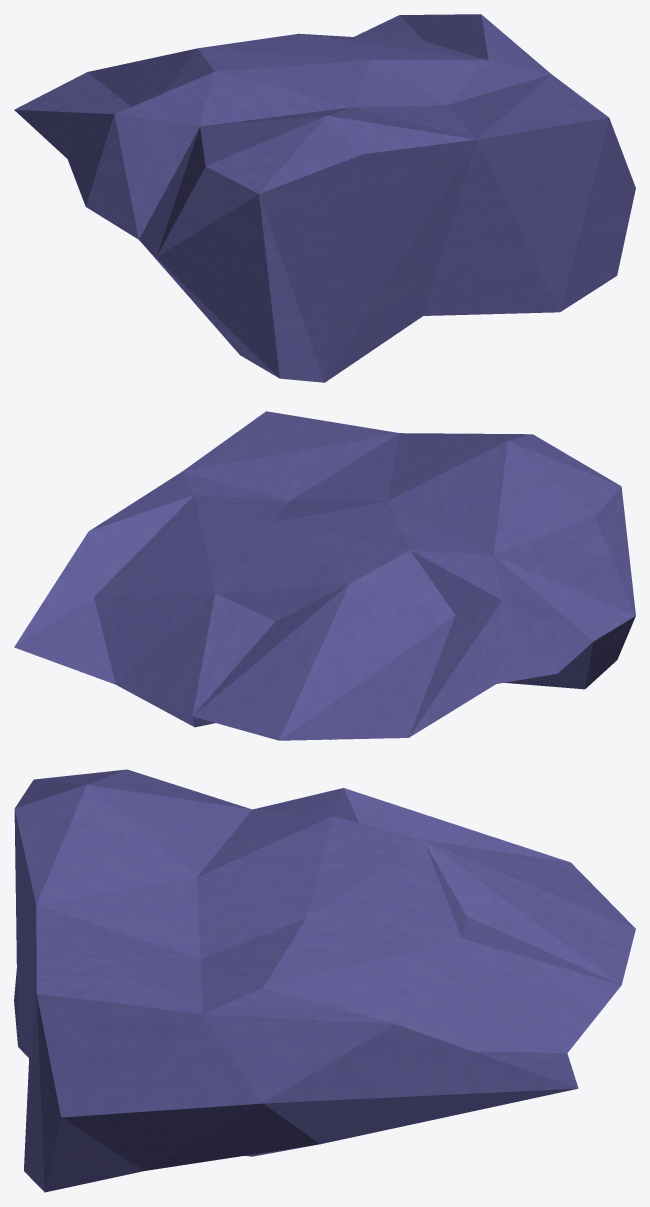
File: Elder_IceWall3.fbx
The picture shows the model from 3 angles, top to bottom: view 1: azimuth 30°, elevation 25°; view 2: azimuth 150°, elevation 25°; view 3: azimuth 270°, elevation 25°; orthographic projection. The views are drawn at different scales.
Parts seen in each view (by area): view 1: Elder_IceWall3; view 2: Elder_IceWall3; view 3: Elder_IceWall3.
Part boxes in pixels (x1,y1,x2,y2): Elder_IceWall3: [14, 14, 635, 382]; Elder_IceWall3: [14, 411, 635, 740]; Elder_IceWall3: [14, 769, 635, 1192].
Bounding box in the file's own units: 336 × 166 × 335.
Materials: 1 (1 with a texture image).
